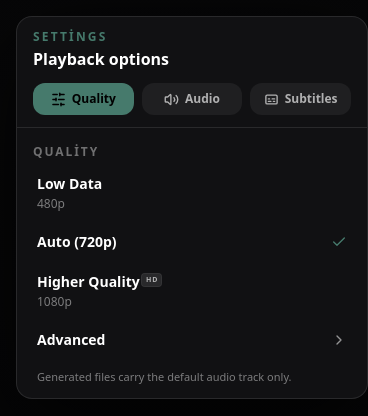
Scenario: PlayerSettingsPanel complete-file qualities › tags 4K and HD renditions and leaves the rest untagged
The image size is (368, 416).
Click the button "Advanced" at (71, 340), box [25, 320, 359, 360]
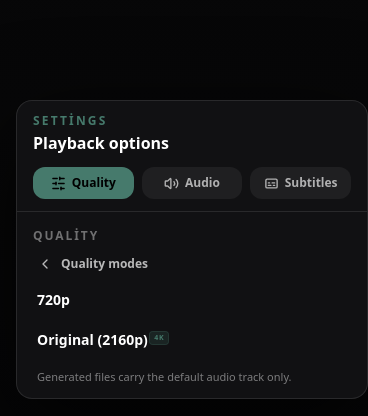
Result: the button "Original (2160p) 4K" is shown at [25, 320, 359, 360]
Result: the button "720p" no longer shows "HD"
